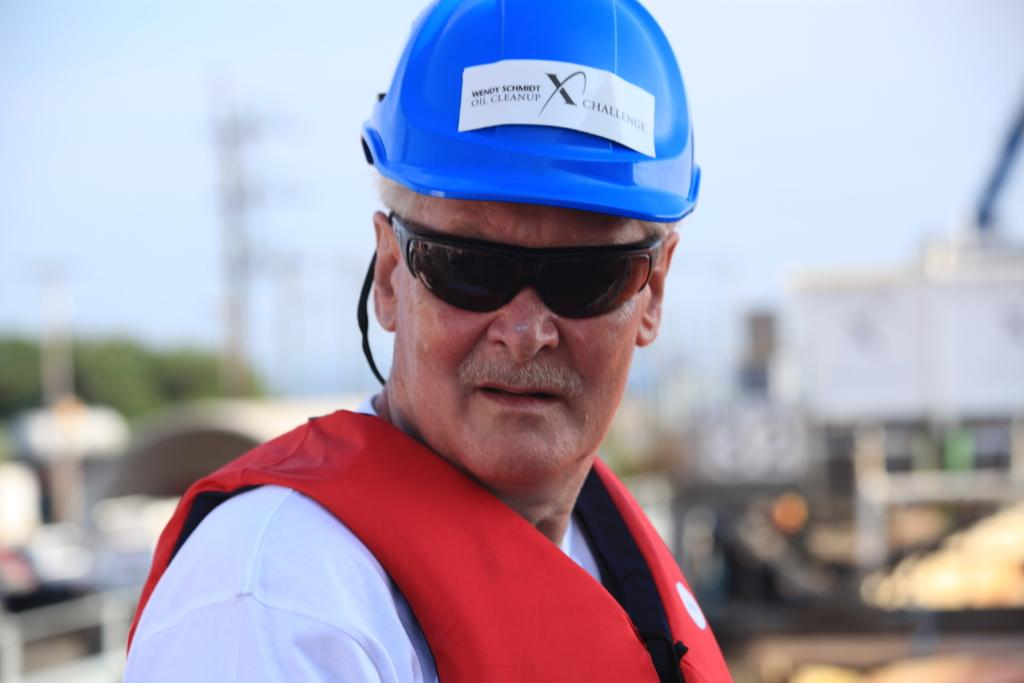Sem Máscara: (383, 197, 655, 490)
